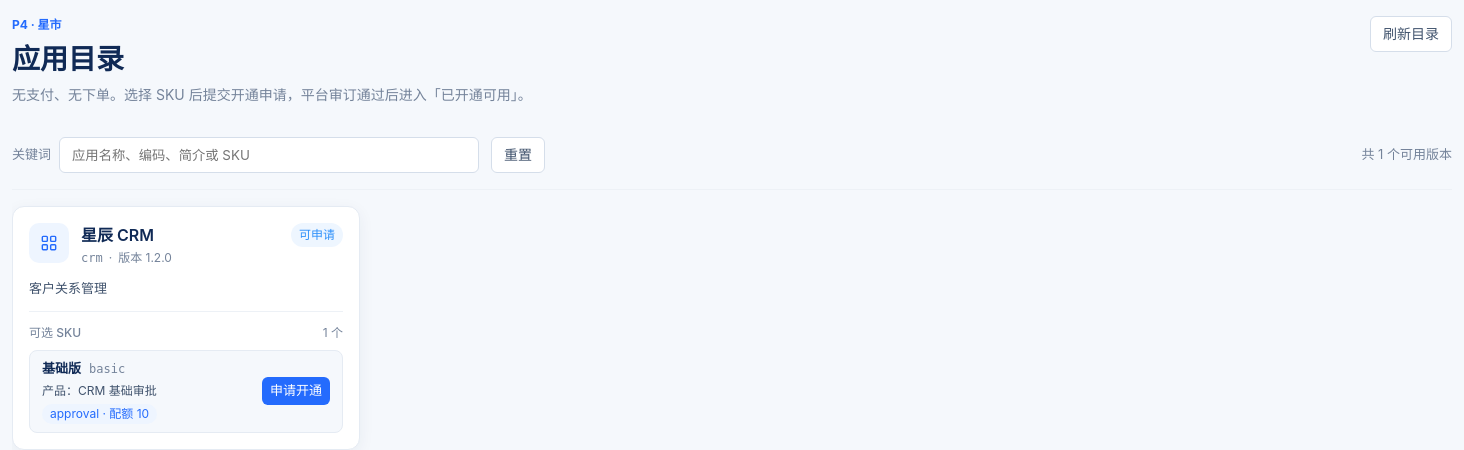
P4 catalog V11 › shows empty and the server failure text
(page scrolled)
Click the button with class "install-button": {"x": 296, "y": 391} [262,377,330,405]
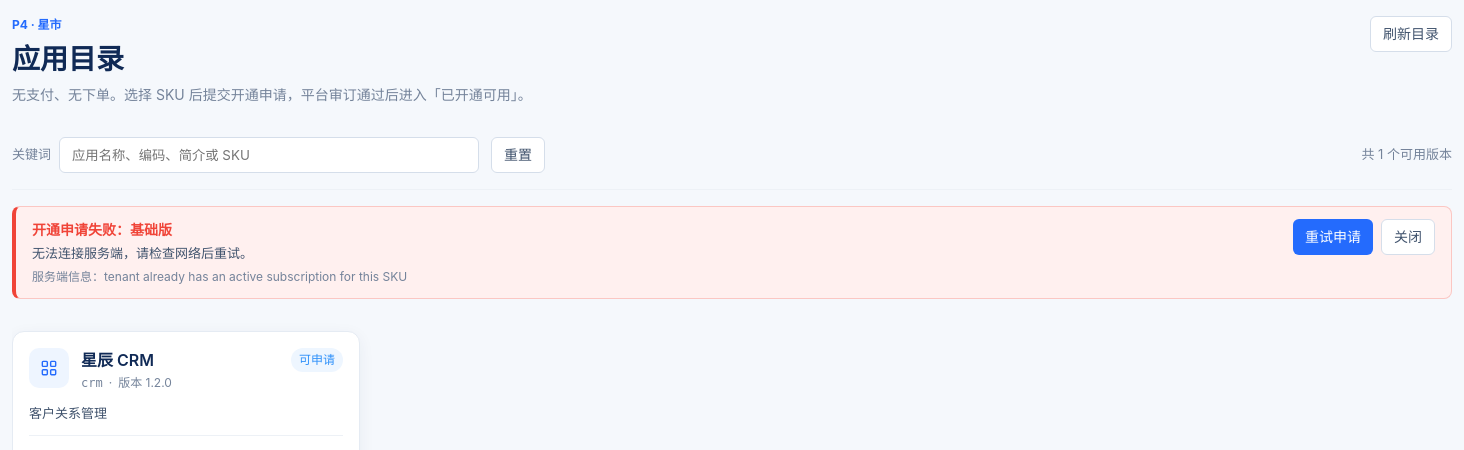
Expected: the text "tenant already has an active subscription for this SKU" is shown, [32,268,407,284]
